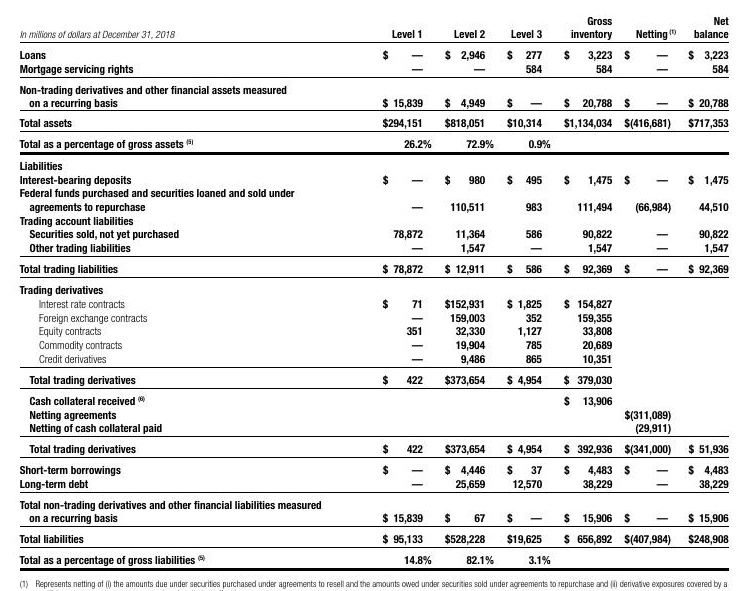table: (0, 0, 754, 591)
